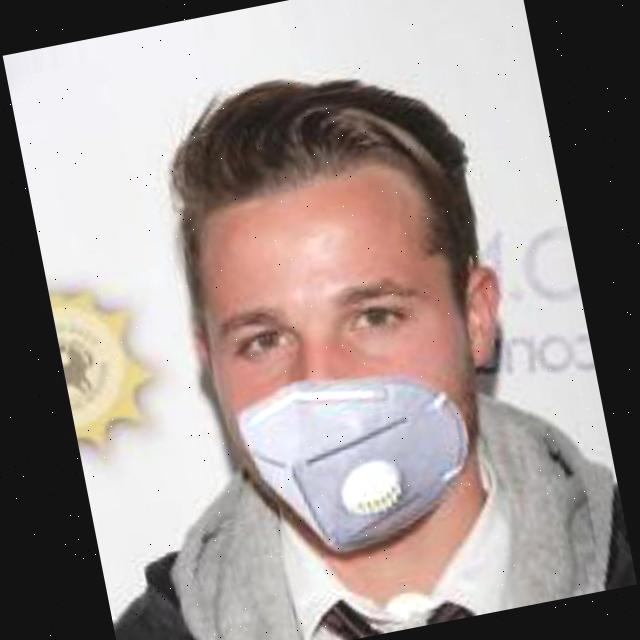suspicion: (146, 119, 546, 560)
